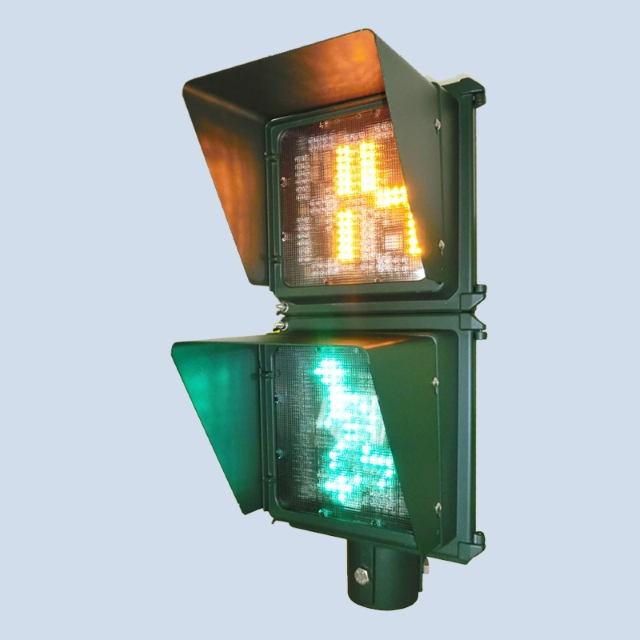green_light: (177, 32, 483, 612)
